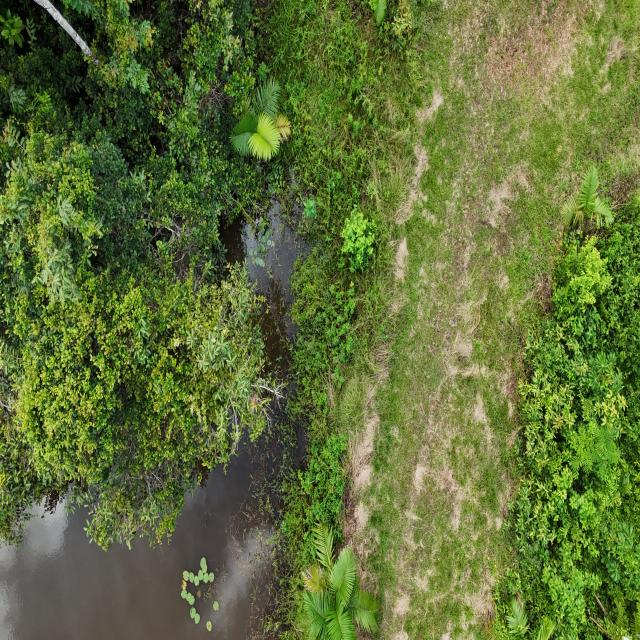vegetation: (491, 176, 639, 639)
